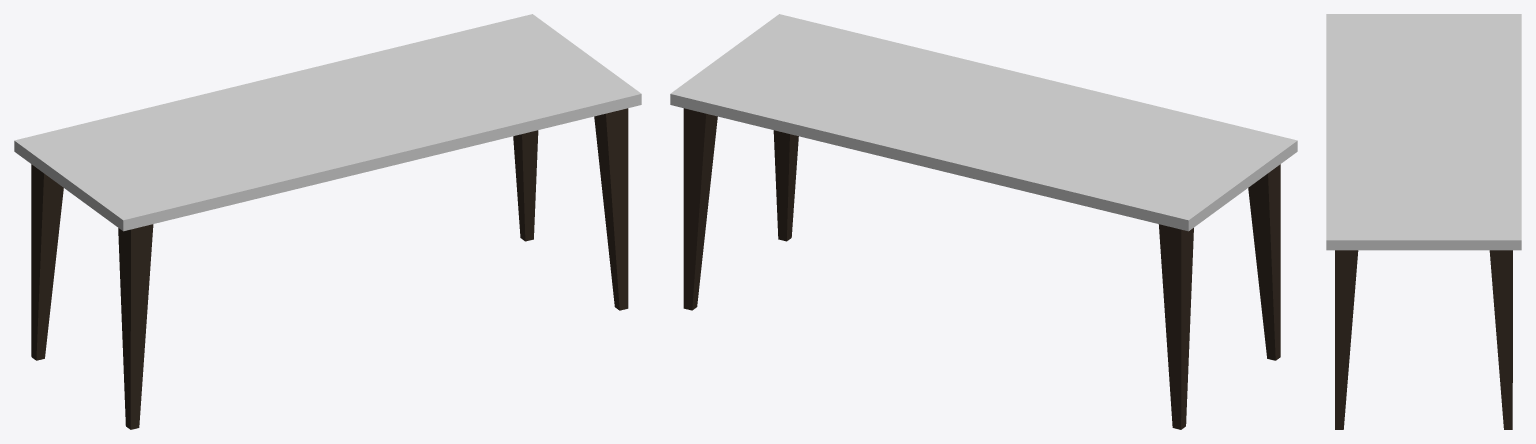
Rendered from table.glb.
3 renders of one model, left to right at view 1: azimuth 30°, elevation 25°; view 2: azimuth 150°, elevation 25°; view 3: azimuth 270°, elevation 25°, orthographic. The views are drawn at different scales.
Visible parts, largest first — view 1: table.001; view 2: table.001; view 3: table.001.
Boxes of the visible parts, x1=… form: table.001: x1=14, y1=14, x2=641, y2=429; table.001: x1=670, y1=14, x2=1297, y2=429; table.001: x1=1326, y1=14, x2=1521, y2=429.
Bounding box in the file's own units: 2.54 × 1.01 × 0.9254.
